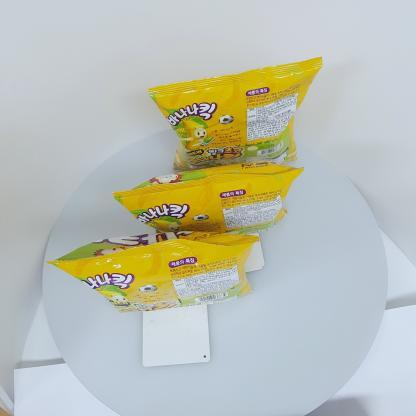Plastic Packaging: (41, 223, 253, 320), (152, 46, 327, 162), (116, 148, 304, 230)
